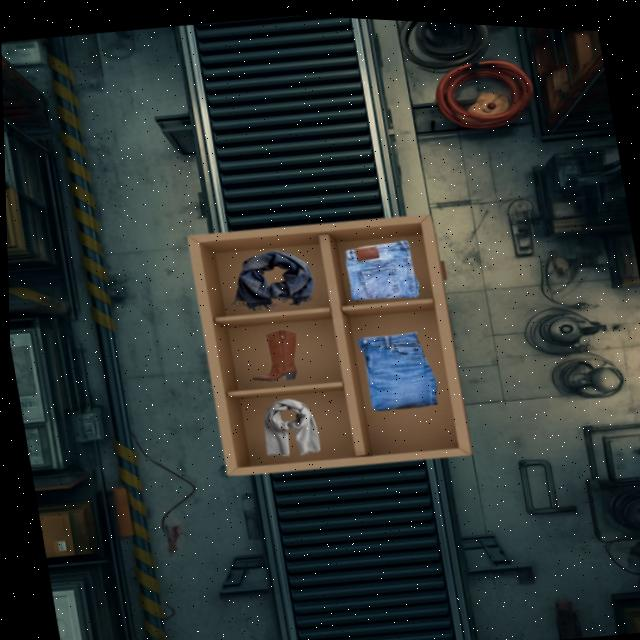boot: (253, 329, 297, 382)
scarf: (233, 251, 314, 311), (265, 399, 320, 456)
trousers: (359, 332, 437, 410), (346, 241, 420, 300)
